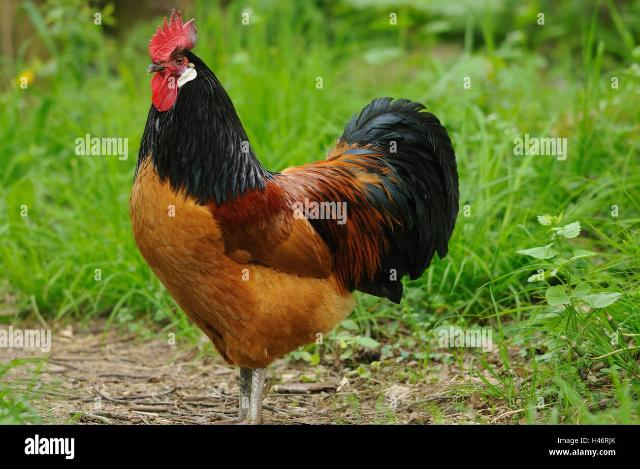Chicken: (130, 10, 459, 427)
